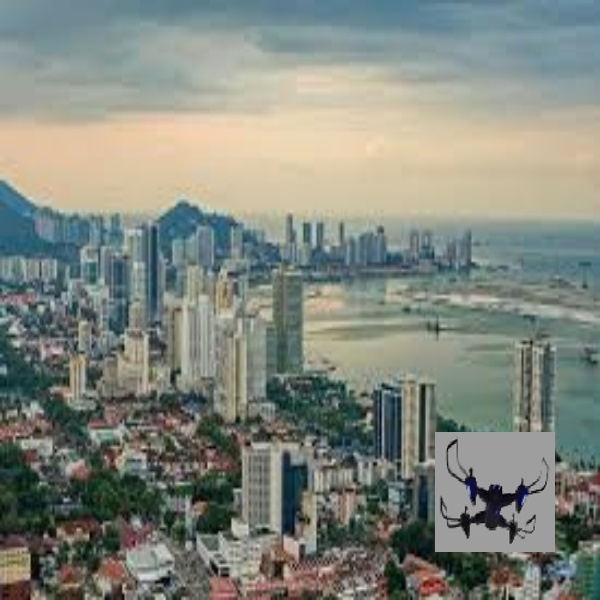drone: (437, 438, 552, 550)
